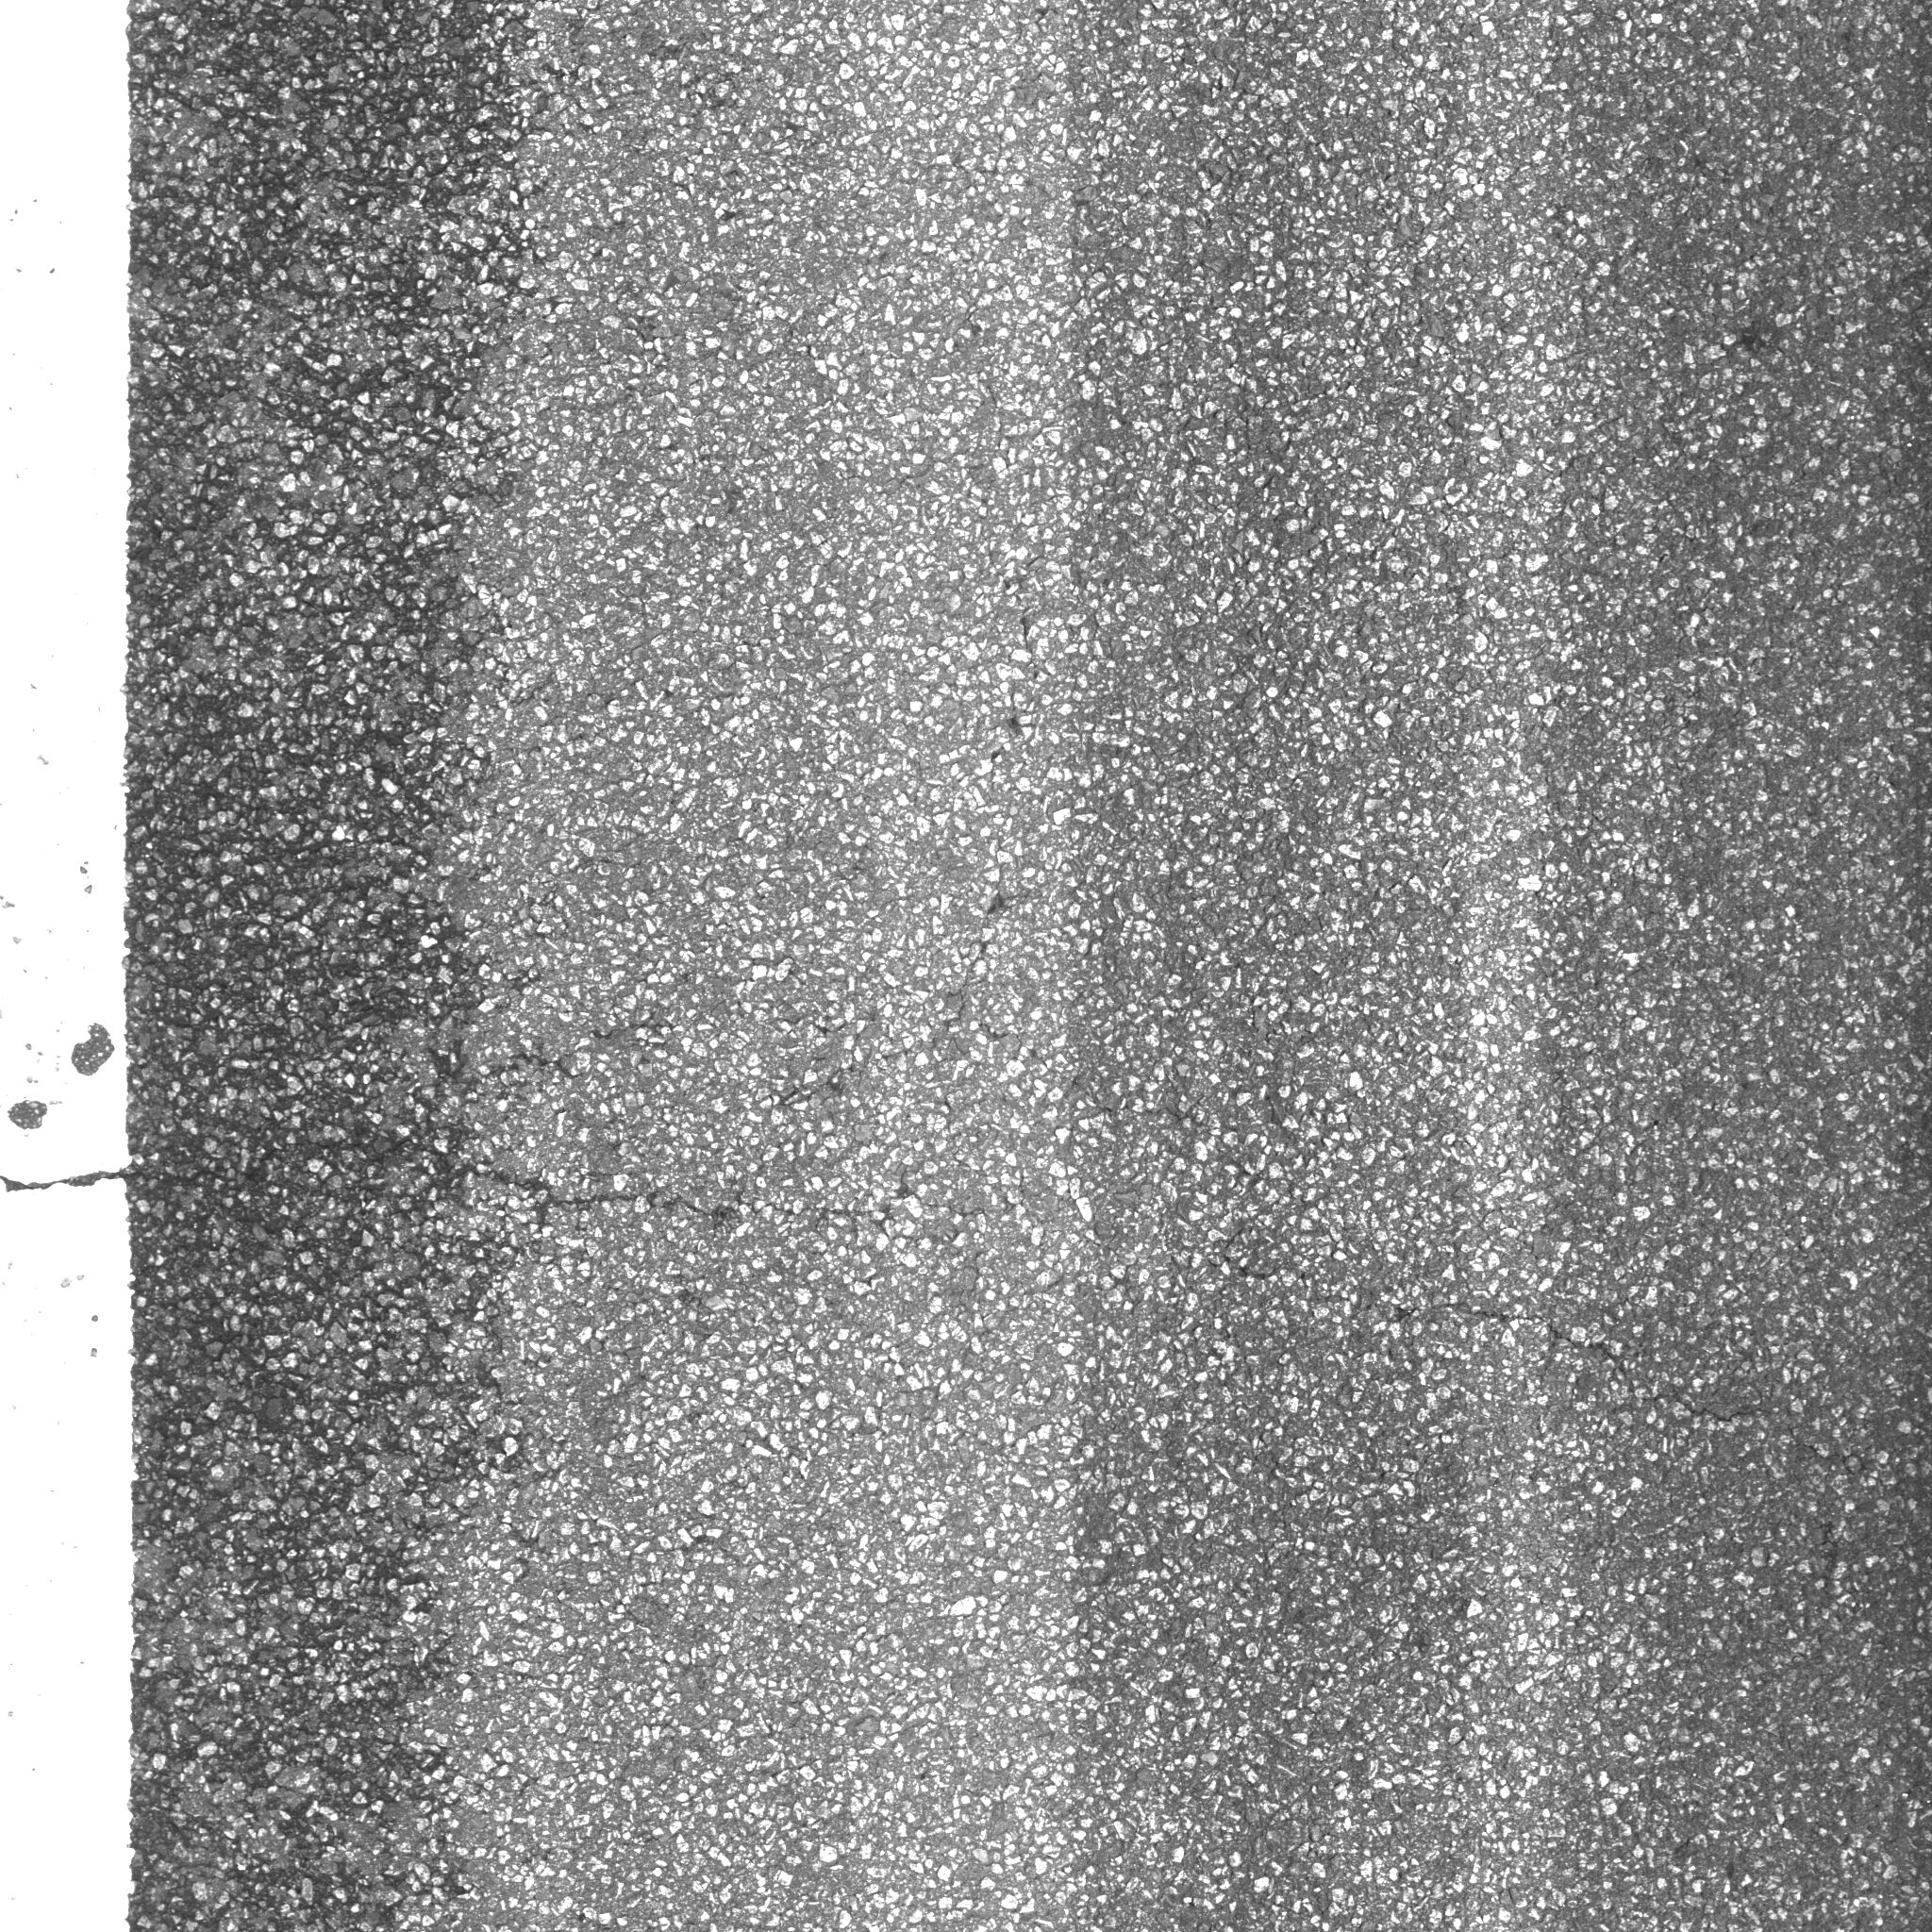transeverse: (2, 1127, 925, 1286), (915, 614, 1065, 1030)
